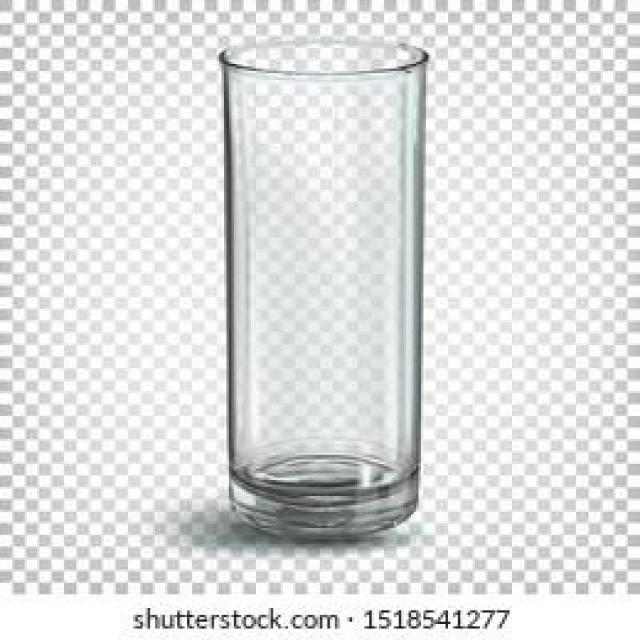non-organic waste: (202, 34, 438, 549)
